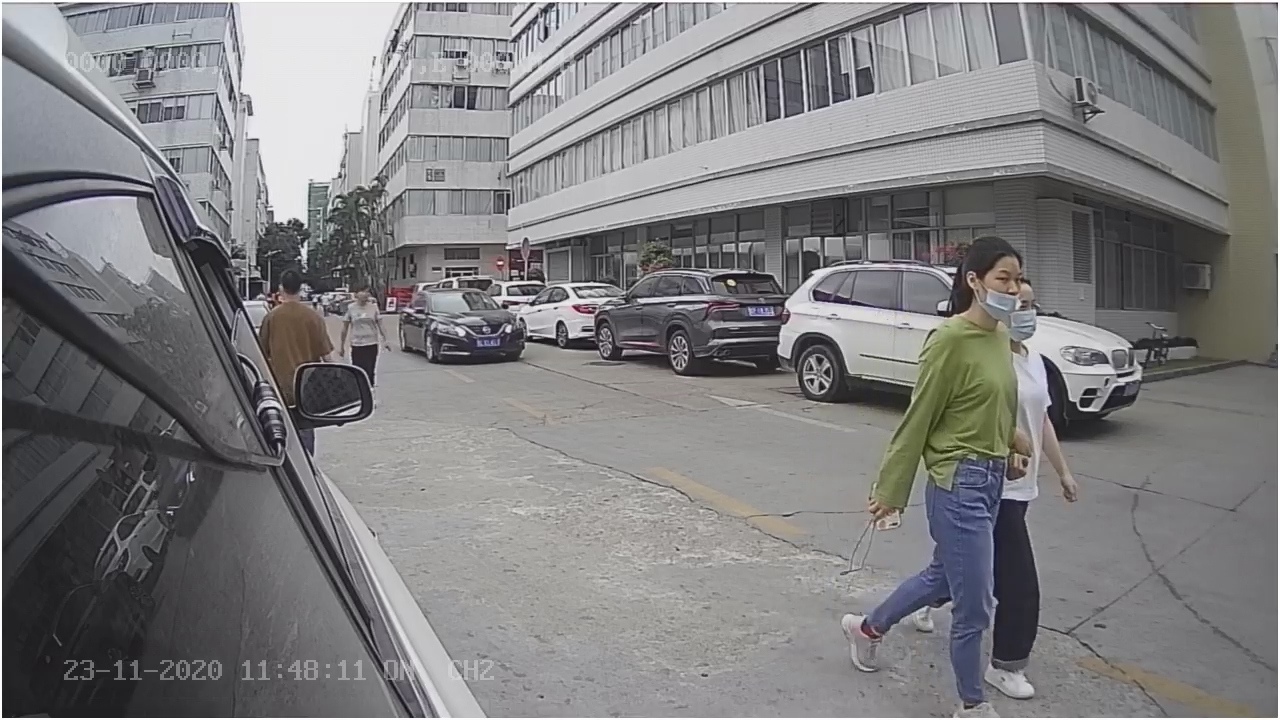person: (843, 226, 1023, 717)
